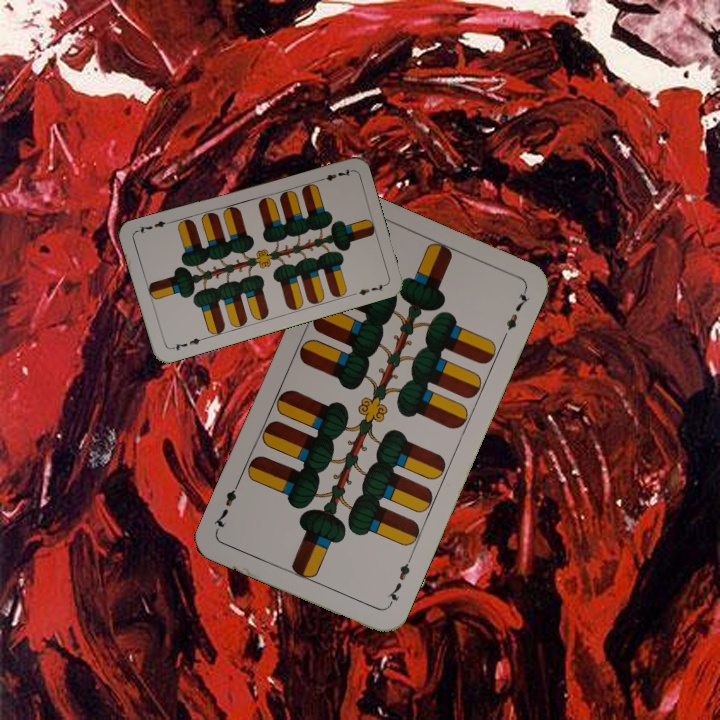E7: (384, 553, 415, 609), (167, 334, 207, 353), (314, 165, 354, 184)
